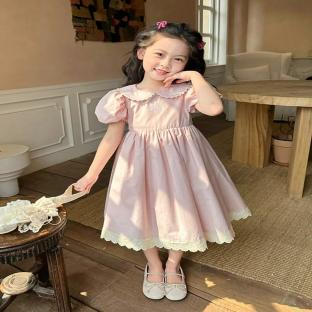Human: (75, 21, 251, 300)
